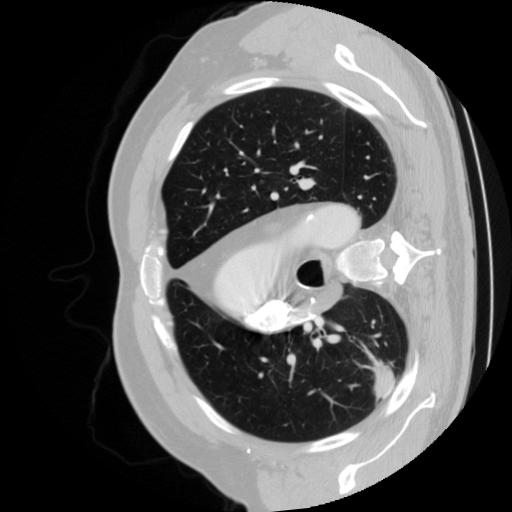nodule: (369, 367, 400, 398)
